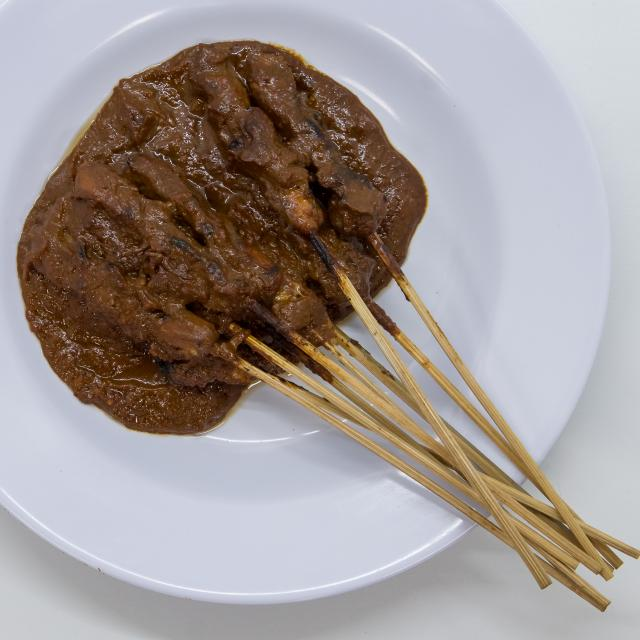Sate-Ayam: (9, 18, 434, 474)
